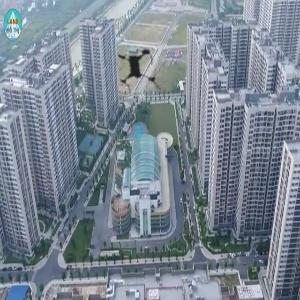drone: (84, 19, 187, 122)
